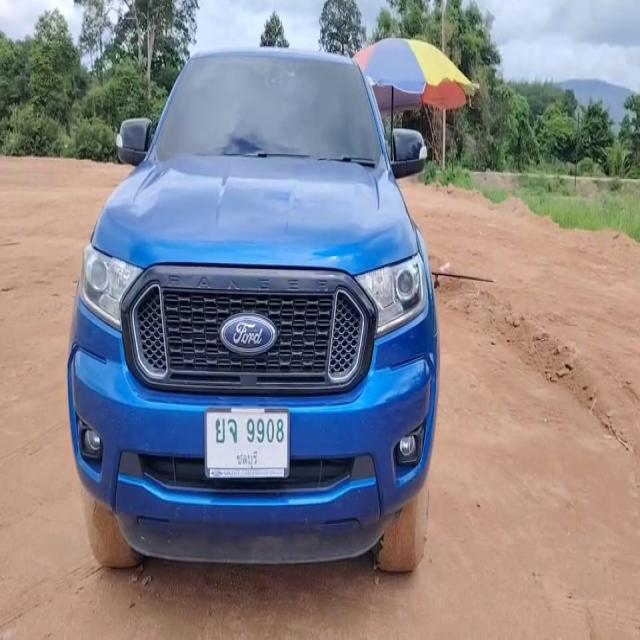Digit: (247, 414, 285, 446)
Licenseplate: (204, 404, 290, 480)
Provincename: (235, 447, 259, 468)
Thaichar: (215, 414, 238, 445)
